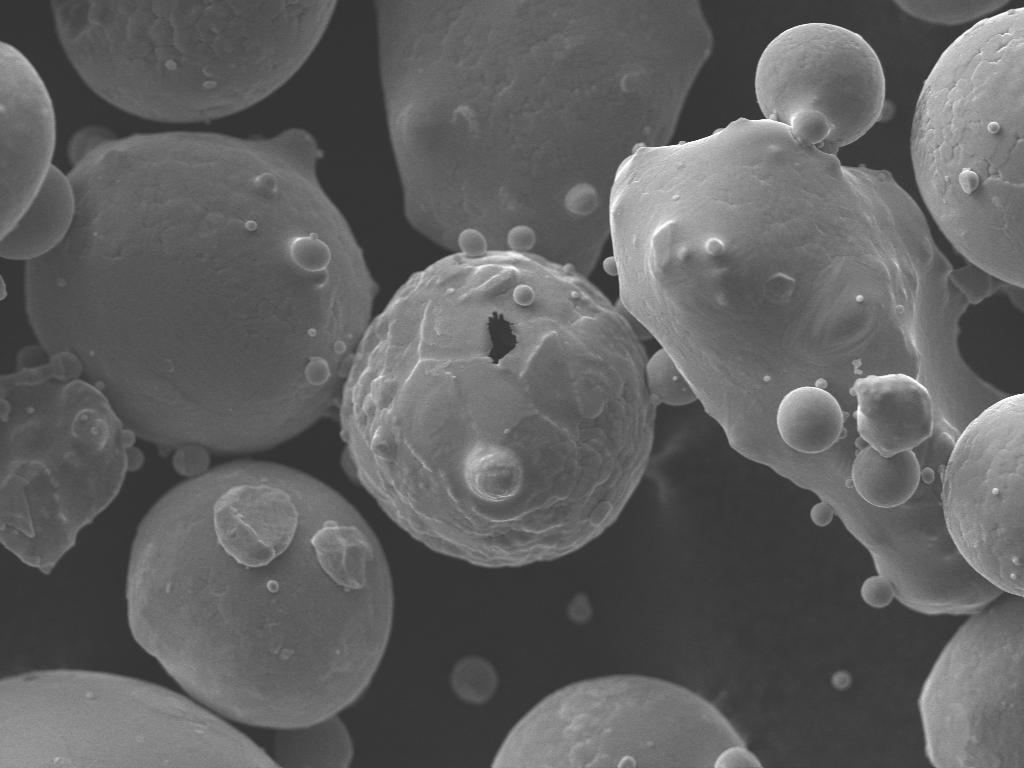Powder: (610, 120, 1000, 614), (26, 126, 376, 475), (344, 228, 654, 566), (376, 0, 712, 275), (126, 460, 392, 765), (910, 8, 1024, 311), (52, 0, 336, 121), (0, 352, 144, 572), (0, 670, 274, 766), (492, 674, 760, 768), (756, 24, 894, 153), (920, 596, 1024, 766), (942, 394, 1024, 597), (0, 42, 74, 260), (894, 1, 1010, 25), (452, 656, 500, 705)
